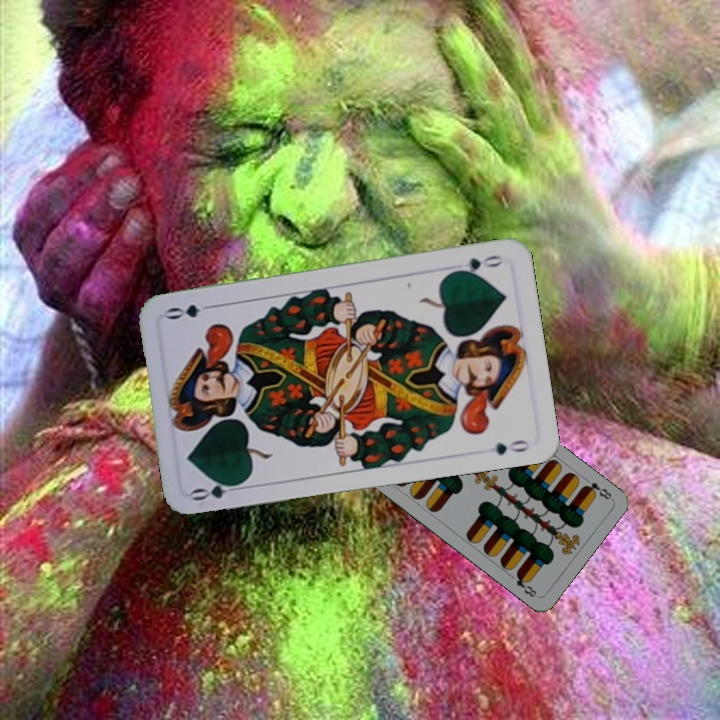E8: (579, 478, 614, 503)
GO: (188, 476, 247, 504), (448, 251, 505, 277)
